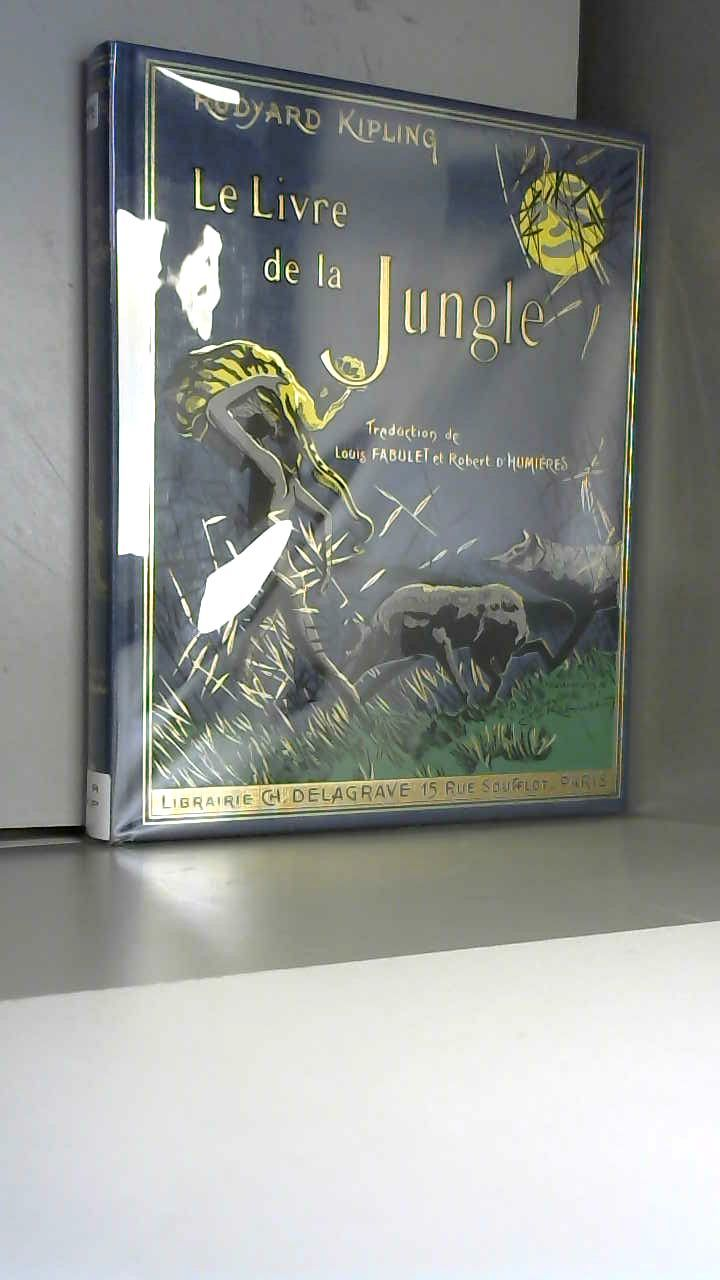book: (50, 10, 718, 879)
